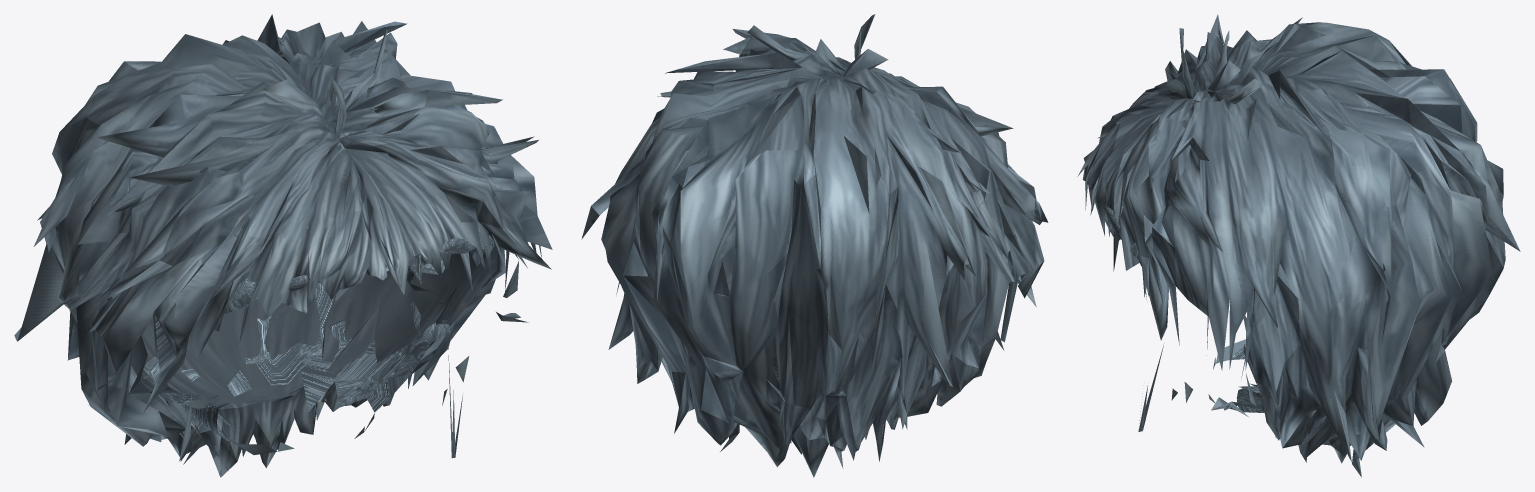
File: curto_baguncado.glb
3 views of the same model, side by side, from view 1: azimuth 30°, elevation 25°; view 2: azimuth 150°, elevation 25°; view 3: azimuth 270°, elevation 25° (orthographic). The views are drawn at different scales.
Parts seen in each view (by area): view 1: cabelo_curto_baguncado; view 2: cabelo_curto_baguncado; view 3: cabelo_curto_baguncado.
Boxes of the visible parts, <box> form: cabelo_curto_baguncado: <box>14,14,552,477</box>; cabelo_curto_baguncado: <box>581,14,1048,477</box>; cabelo_curto_baguncado: <box>1077,14,1520,477</box>.
Size of the model in its own units: 0.1834 by 0.18 by 0.1704.
Materials: 1 (1 with a texture image).
